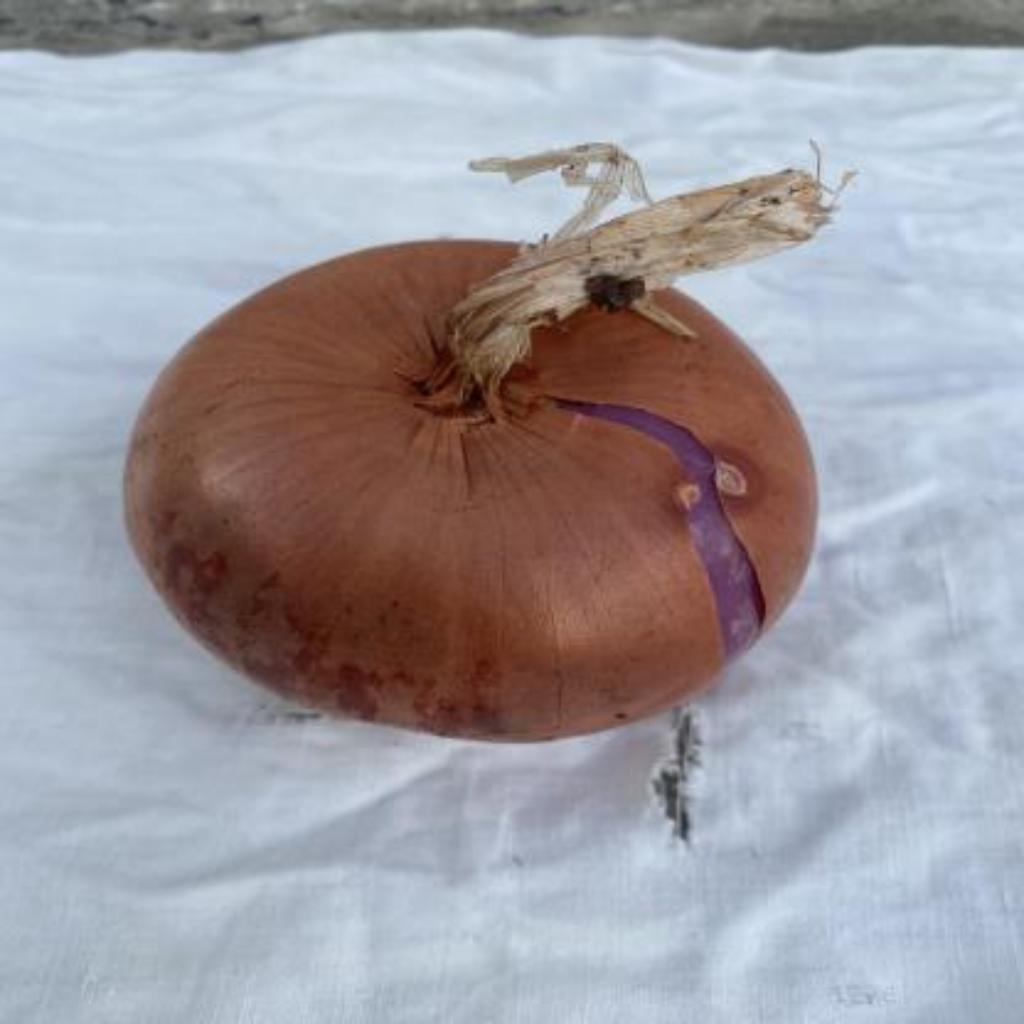Onion: (126, 145, 837, 740)
